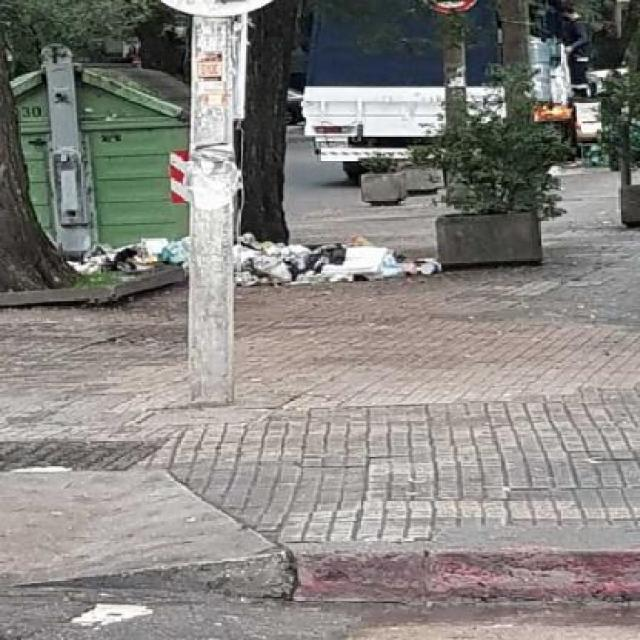garbage: (56, 215, 432, 296)
